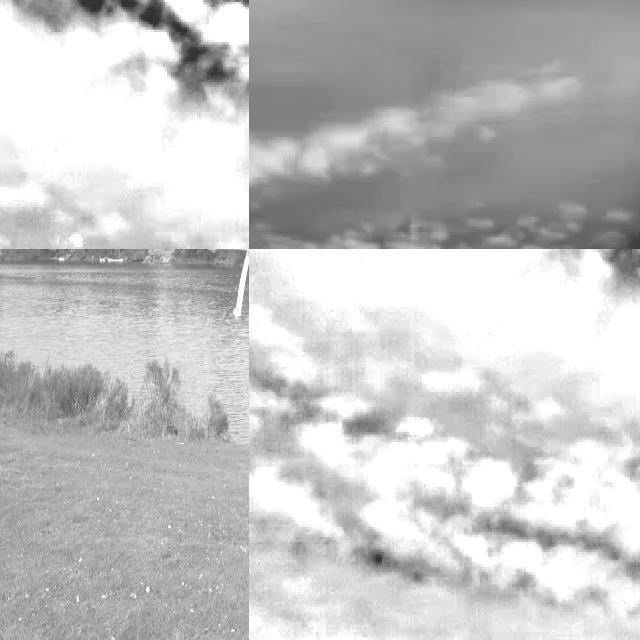0: (412, 412, 450, 452), (65, 226, 97, 249)
drone: (182, 249, 249, 323)
